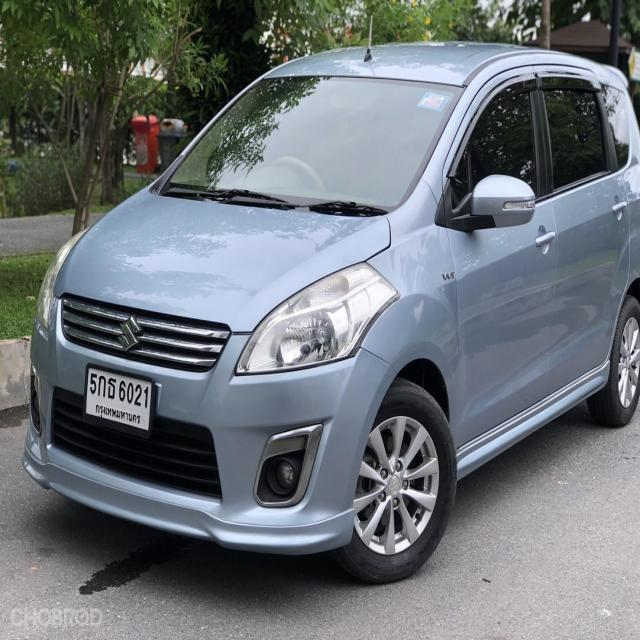license_plate: (80, 355, 161, 441)
